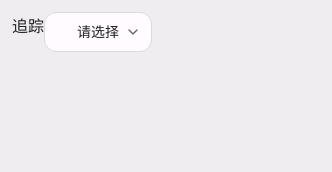
Scenario: unmounts React option labels after closing, not only the visible DOM
The width and height of the screenshot is (332, 172).
Later steps or results of the test are not shown.
Click the dropdown named "追踪". click: (98, 32)
box: x1=44 y1=12 x2=152 y2=52
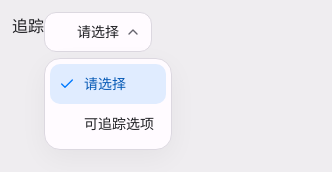
Expected: the option "可追踪选项" is shown, x1=84 y1=115 x2=154 y2=132
